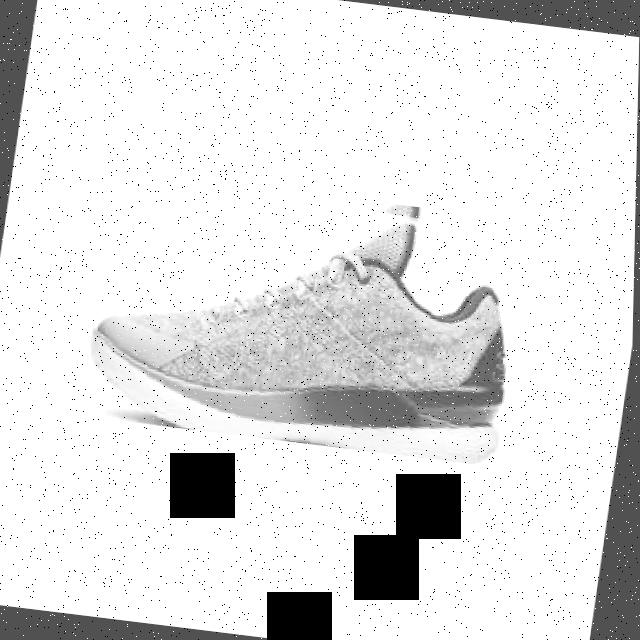shoe: (89, 170, 540, 466), (89, 214, 514, 464)
